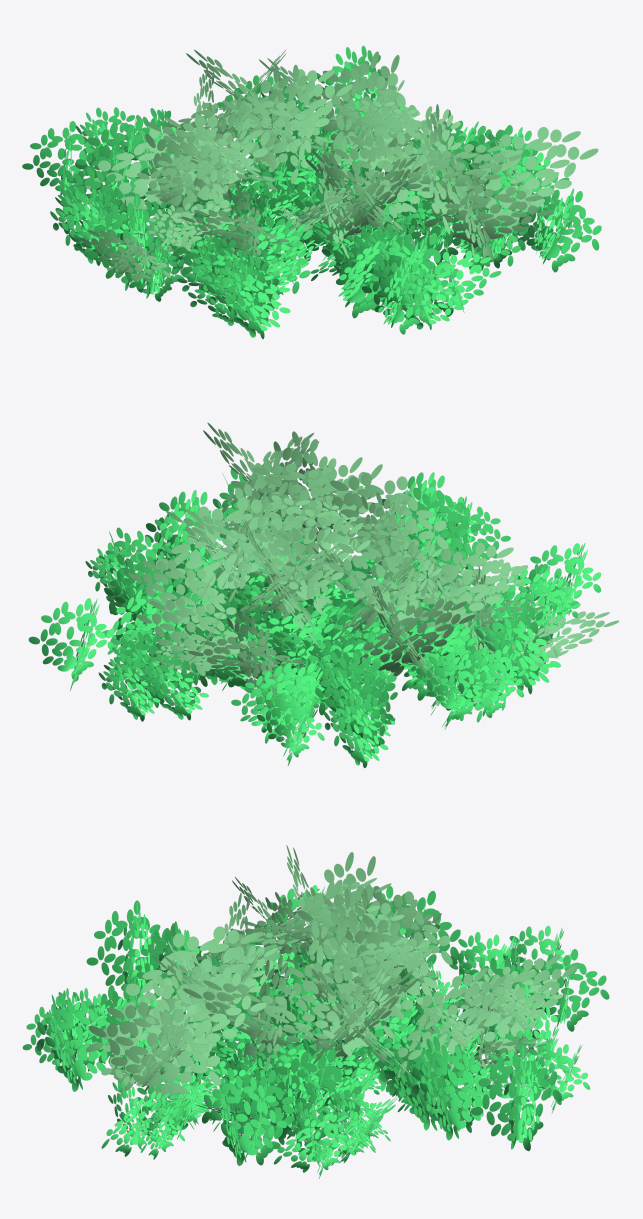
File: hazard.glb
The picture shows the model from 3 angles, top to bottom: view 1: azimuth 30°, elevation 25°; view 2: azimuth 150°, elevation 25°; view 3: azimuth 270°, elevation 25°; orthographic projection. The views are drawn at different scales.
Visible parts, largest first — view 1: bush03_jabami_mesh; view 2: bush03_jabami_mesh; view 3: bush03_jabami_mesh.
Boxes of the visible parts, left/top/right/bottom form: bush03_jabami_mesh: left=22, top=45, right=601, bottom=339; bush03_jabami_mesh: left=28, top=422, right=619, bottom=767; bush03_jabami_mesh: left=22, top=845, right=609, bottom=1178.
Bounding box in the file's own units: 5.67 × 2.23 × 5.64.
2 materials, 2 textured.
